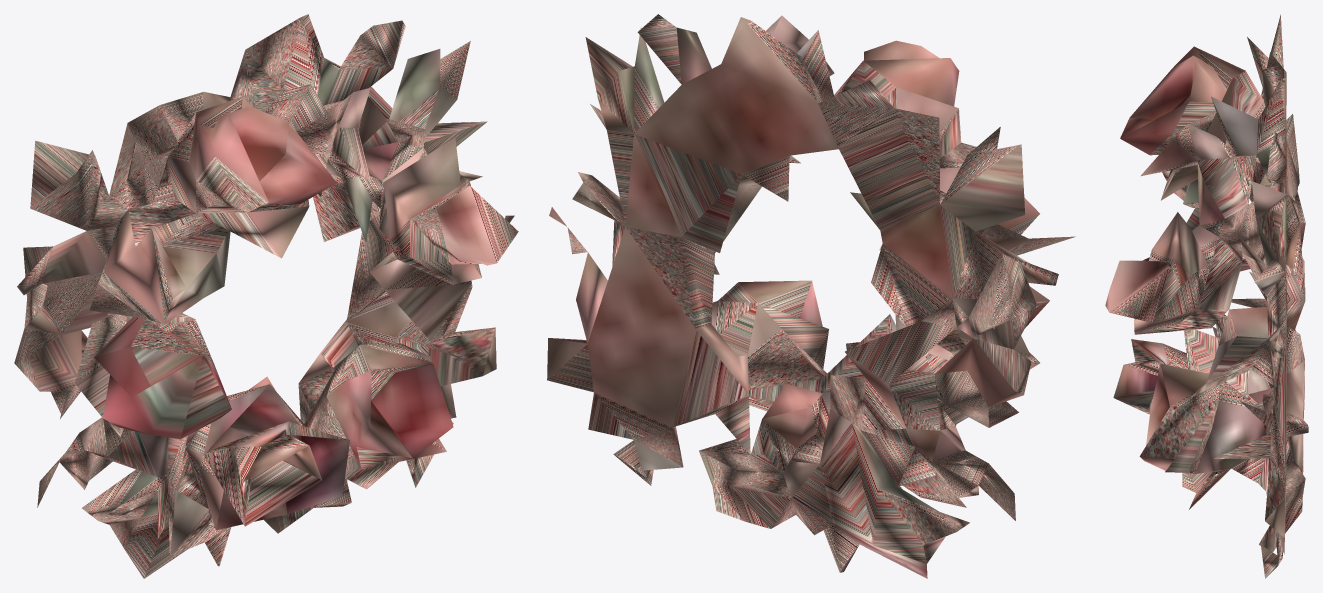
3 views of the same model, side by side, from view 1: azimuth 30°, elevation 25°; view 2: azimuth 150°, elevation 25°; view 3: azimuth 270°, elevation 25° (orthographic). The views are drawn at different scales.
Parts seen in each view (by area): view 1: Rose-Frame-10-25; view 2: Rose-Frame-10-25; view 3: Rose-Frame-10-25.
Part boxes in pixels (x1,y1,x2,y2): Rose-Frame-10-25: [14, 14, 518, 578]; Rose-Frame-10-25: [547, 14, 1075, 578]; Rose-Frame-10-25: [1105, 14, 1308, 578].
Bounding box in the file's own units: 0.2887 × 0.2924 × 0.1113.
1 material, 1 textured.
